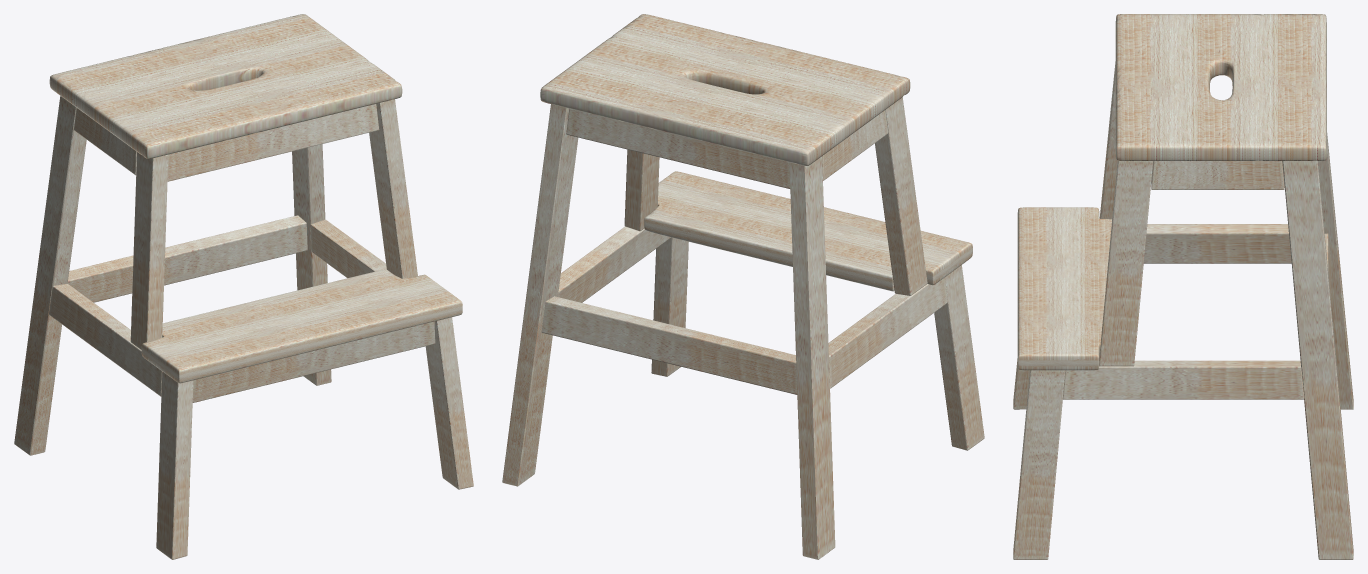
Rendered from bekvam.glb.
The picture shows the model from 3 angles, left to right: view 1: azimuth 30°, elevation 25°; view 2: azimuth 150°, elevation 25°; view 3: azimuth 270°, elevation 25°; orthographic projection. The views are drawn at different scales.
Visible parts, largest first — view 1: Object_2, Object_3; view 2: Object_2, Object_3; view 3: Object_2, Object_3.
Boxes of the visible parts, x1,y1,x2,y2 form: Object_2: (14, 96, 473, 559); Object_3: (49, 14, 462, 383); Object_2: (502, 97, 984, 559); Object_3: (540, 14, 972, 291); Object_2: (1013, 61, 1353, 559); Object_3: (1017, 14, 1326, 370).
Bounding box in the file's own units: 16.73 × 19.8 × 15.22.
2 materials, 2 textured.
